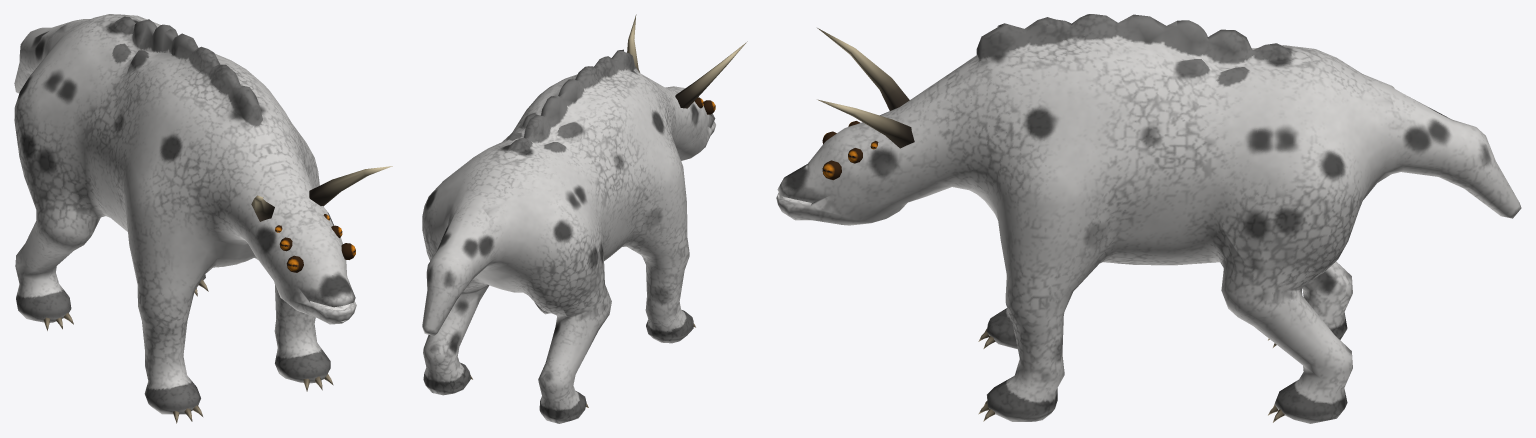
Rendered from BilateralFourLegs.fbx.
3 views of the same model, side by side, from view 1: azimuth 30°, elevation 25°; view 2: azimuth 150°, elevation 25°; view 3: azimuth 270°, elevation 25° (orthographic). The views are drawn at different scales.
Parts seen in each view (by area): view 1: BilateralFourLegs; view 2: BilateralFourLegs; view 3: BilateralFourLegs.
Boxes of the visible parts, x1,y1,x2,y2 form: BilateralFourLegs: [14, 14, 392, 423]; BilateralFourLegs: [422, 14, 747, 423]; BilateralFourLegs: [776, 14, 1521, 423].
Size of the model in its own units: 0.3371 by 0.5395 by 1.
2 materials, 2 textured.
